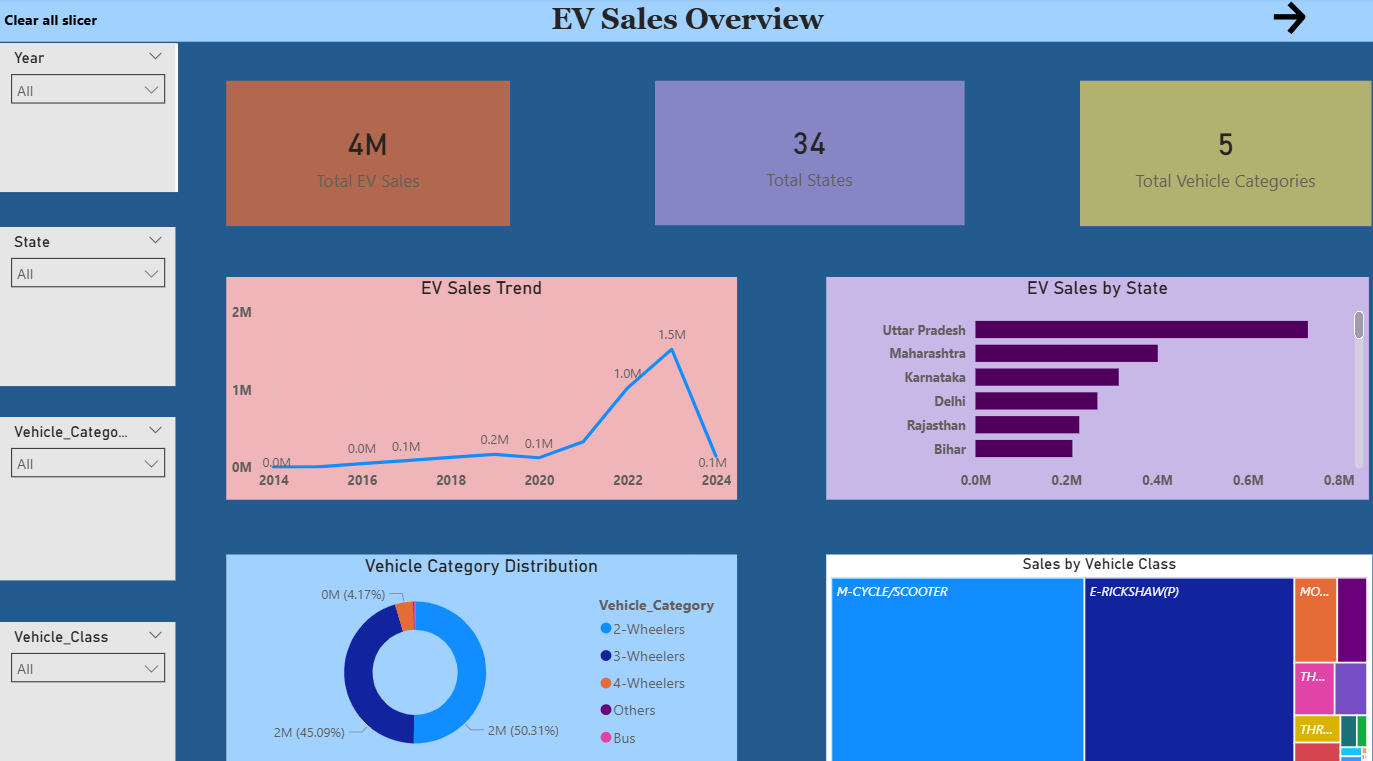

Layout of this report page (visuals, bound fields, positions):
{"tool":"powerbi","page":{"name":"Page 1","canvas":[1280,720],"ordinal":0},"visuals":[{"type":"textbox","box":[0,0,1278.8,41.6],"z":0},{"type":"card","fields":{"Values":["Worksheet.Total EV Sales"]},"box":[210.6,77.5,263.8,135.6],"z":1000},{"type":"card","fields":{"Values":["Worksheet.Total States"]},"box":[608.9,77.7,287.6,134.7],"z":2000},{"type":"card","fields":{"Values":["Worksheet.Total Vehicle Categories"]},"box":[1004.5,77.5,271.1,135.6],"z":3000},{"type":"lineChart","title":"EV Sales Trend","fields":{"Category":["Worksheet.Date.Variation.Date Hierarchy.Year","Worksheet.Date.Variation.Date Hierarchy.Quarter","Worksheet.Date.Variation.Date Hierarchy.Month","Worksheet.Date.Variation.Date Hierarchy.Day"],"Y":["Sum(Worksheet.EV_Sales_Quantity)"]},"box":[210.7,260.8,474.8,207.3],"z":4000},{"type":"clusteredBarChart","title":"EV Sales by State","fields":{"Category":["Worksheet.State"],"Y":["Sum(Worksheet.EV_Sales_Quantity)"]},"box":[769.1,260.8,504.9,207.3],"z":5000},{"type":"donutChart","title":"Vehicle Category Distribution","fields":{"Category":["Worksheet.Vehicle_Category"],"Y":["Sum(Worksheet.EV_Sales_Quantity)"]},"box":[210.7,518.3,474.8,200.6],"z":6000},{"type":"treemap","title":"Sales by Vehicle Class","fields":{"Group":["Worksheet.Vehicle_Class"],"Values":["Sum(Worksheet.EV_Sales_Quantity)"]},"box":[769.1,518.3,508.3,200.6],"z":7000},{"type":"slicer","fields":{"Values":["Worksheet.Date.Variation.Date Hierarchy.Year"]},"box":[0,43.2,165.8,138.5],"z":8000},{"type":"slicer","fields":{"Values":["Worksheet.State"]},"box":[0,213.5,163.5,147.6],"z":9000},{"type":"slicer","fields":{"Values":["Worksheet.Date.Variation.Date Hierarchy.Year"]},"box":[0,43.2,163.5,138.5],"z":10000},{"type":"slicer","fields":{"Values":["Worksheet.Vehicle_Category"]},"box":[0,390.6,163.5,152.2],"z":11000},{"type":"slicer","fields":{"Values":["Worksheet.Vehicle_Class"]},"box":[0,581.4,163.5,138.5],"z":12000},{"type":"actionButton","box":[1178.9,0,101.1,38.9],"z":14000},{"type":"actionButton","box":[0,0,100,40],"z":14001}]}

Visuals, with their boxes in screenshot pixels (x1, y1, x2, y2), scaled from the page's 1280x720 canvas onto the 1373x761 screenshot:
textbox: l=0, t=0, r=1372, b=44
card - Worksheet.Total EV Sales: l=226, t=82, r=509, b=225
card - Worksheet.Total States: l=653, t=82, r=962, b=224
card - Worksheet.Total Vehicle Categories: l=1077, t=82, r=1368, b=225
"EV Sales Trend" lineChart: l=226, t=276, r=735, b=495
"EV Sales by State" clusteredBarChart: l=825, t=276, r=1367, b=495
"Vehicle Category Distribution" donutChart: l=226, t=548, r=735, b=760
"Sales by Vehicle Class" treemap: l=825, t=548, r=1370, b=760
slicer - Worksheet.Date.Variation.Date Hierarchy.Year: l=0, t=46, r=178, b=192
slicer - Worksheet.State: l=0, t=226, r=175, b=382
slicer - Worksheet.Date.Variation.Date Hierarchy.Year: l=0, t=46, r=175, b=192
slicer - Worksheet.Vehicle_Category: l=0, t=413, r=175, b=574
slicer - Worksheet.Vehicle_Class: l=0, t=615, r=175, b=760
actionButton: l=1265, t=0, r=1372, b=41
actionButton: l=0, t=0, r=107, b=42
